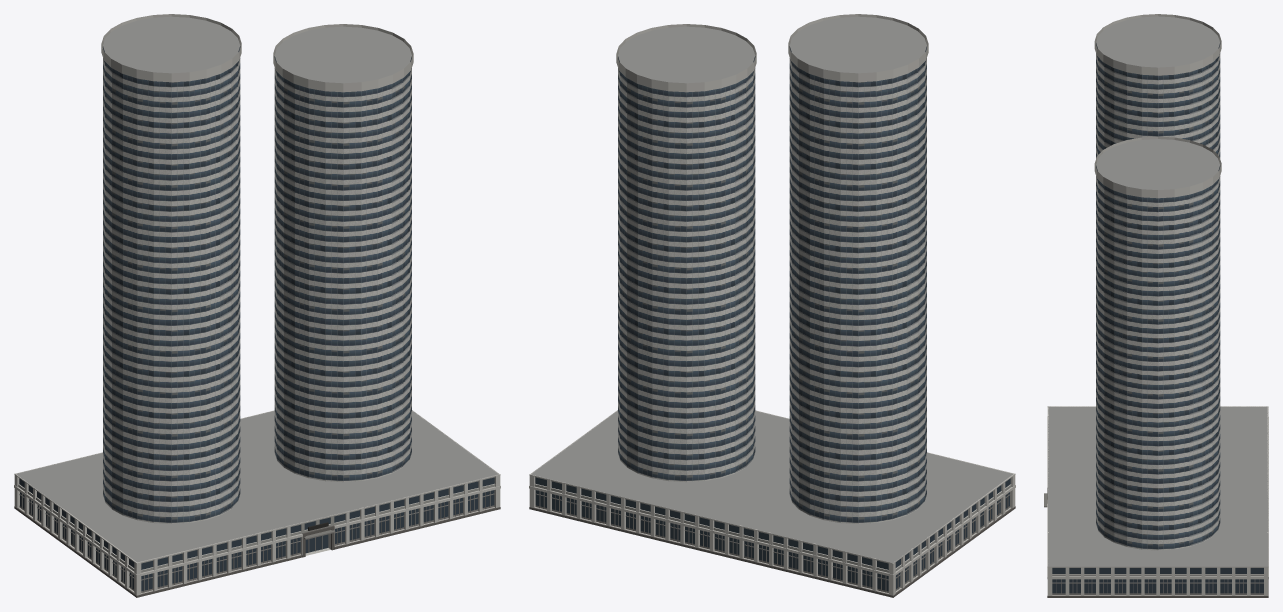
File: westin_seattle.glb
3 renders of one model, left to right at view 1: azimuth 30°, elevation 25°; view 2: azimuth 150°, elevation 25°; view 3: azimuth 270°, elevation 25°, orthographic. The views are drawn at different scales.
Parts seen in each view (by area): view 1: westin_seattle; view 2: westin_seattle; view 3: westin_seattle.
Boxes of the visible parts, box(x1,y1,x2,y2) form: westin_seattle: box(14, 14, 500, 597); westin_seattle: box(529, 14, 1015, 597); westin_seattle: box(1044, 14, 1268, 597).
Bounding box in the file's own units: 110 × 141 × 65.24.
Materials: 2 (2 with a texture image).
